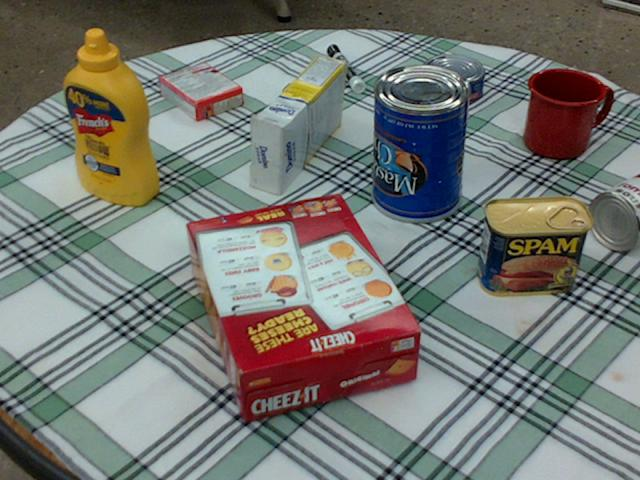cracker_box: (185, 194, 421, 422)
gelatin_box: (159, 63, 242, 120)
large_marker: (327, 43, 364, 92)
master_chef_can: (369, 64, 472, 220)
mug: (524, 68, 608, 159)
mustard_bottle: (64, 29, 158, 204)
potted_meat_can: (476, 196, 591, 296)
sugar_box: (251, 54, 345, 194)
tomato_soup_can: (588, 174, 639, 249)
tuna_fish_can: (421, 54, 485, 104)
